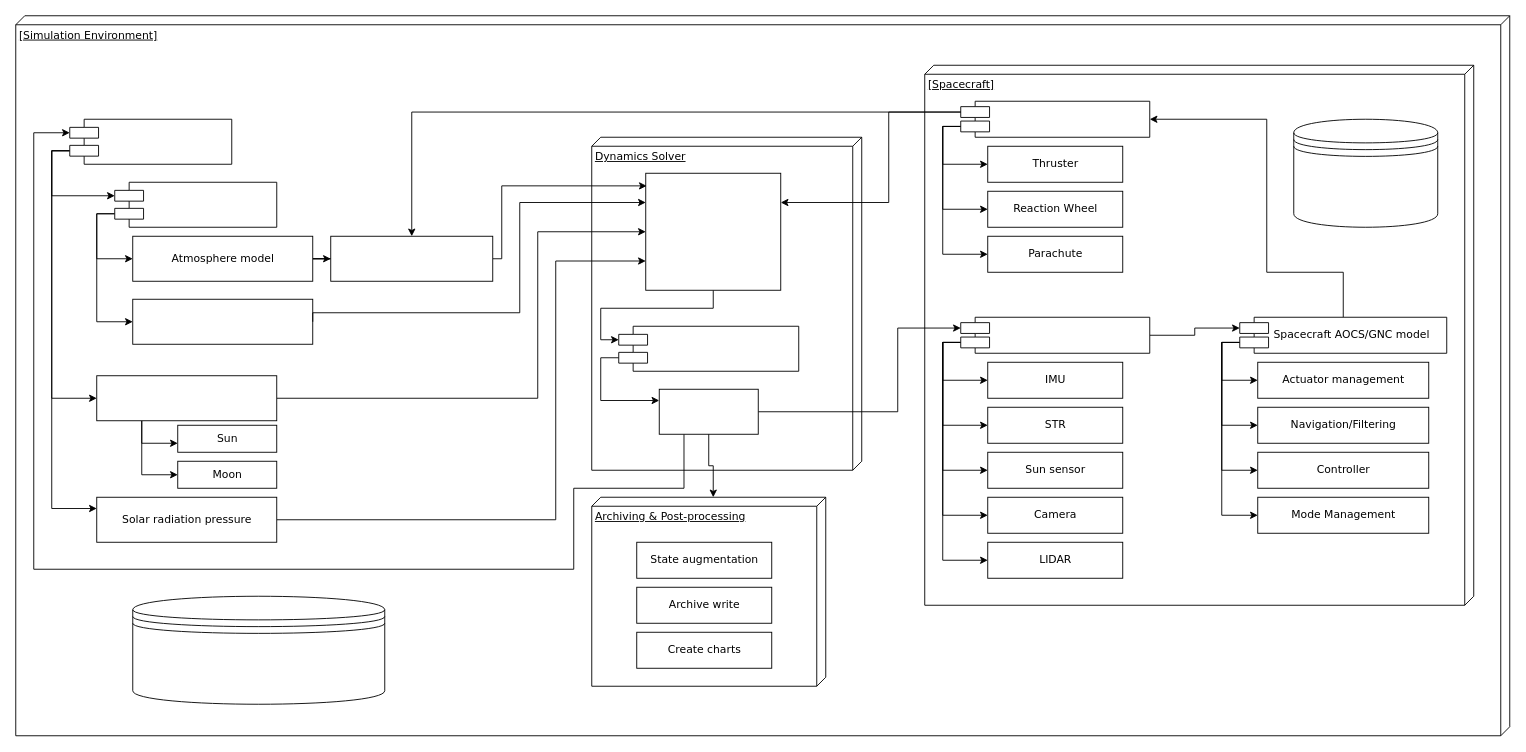
Image size: 1526x752. Some labels were removed from this diagram. Here are the shapes that lost their labels. From the top down, the centre of each, then its label:
At pixel 1055 118: "Spacecraft actuator model".
At pixel 150 141: "Environment model".
At pixel 1365 172: "Spacecraft Data".
At pixel 195 204: "Planet model".
At pixel 713 231: "Sum of all forces (and moments)".
At pixel 411 258: "Aerodynamic model".
At pixel 222 321: "(Primary Body) Gravity model".
At pixel 1055 334: "Spacecraft sensor model".
At pixel 708 348: "Equations of Motion".
At pixel 186 398: "Third body".
At pixel 708 411: "RK4 solver".
At pixel 258 649: "Environment Data".
